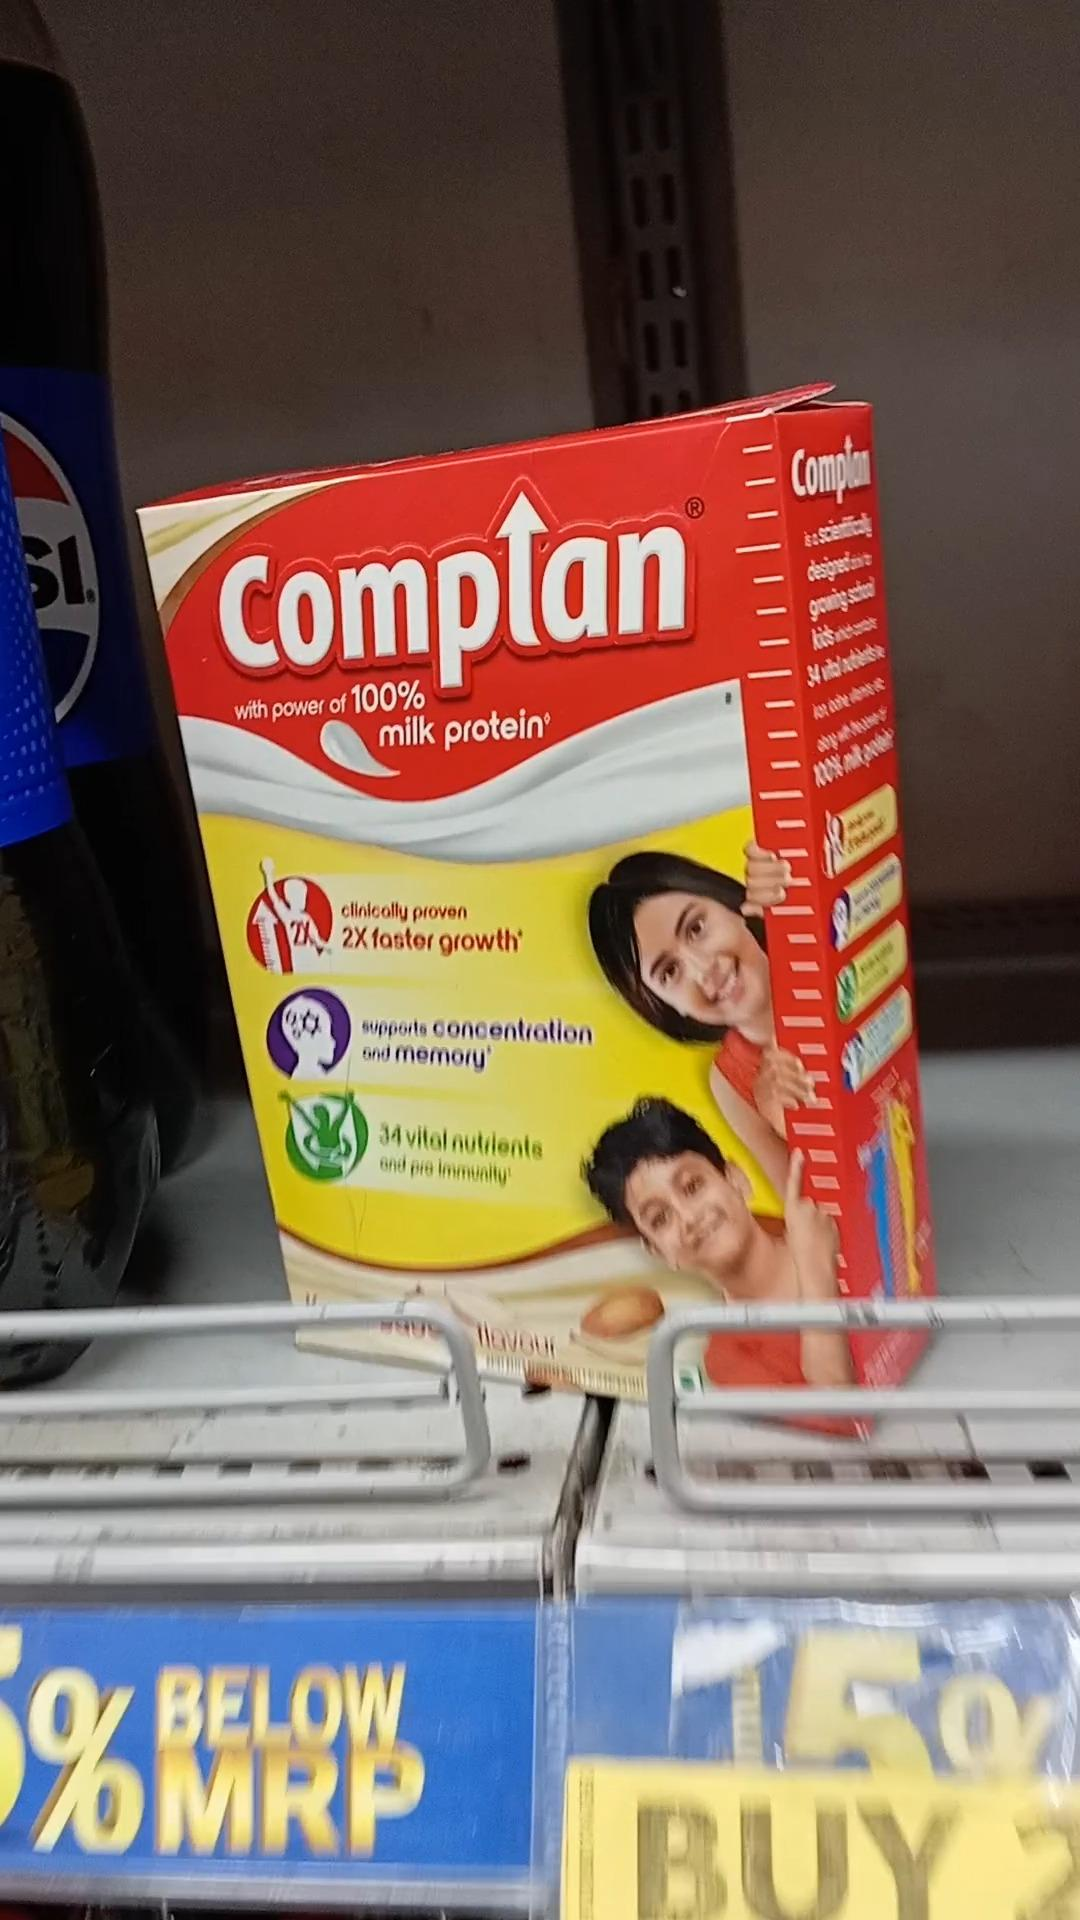COMPLAN_CHOCOLATE_200_GMS_JAR: (241, 485, 845, 1423)
